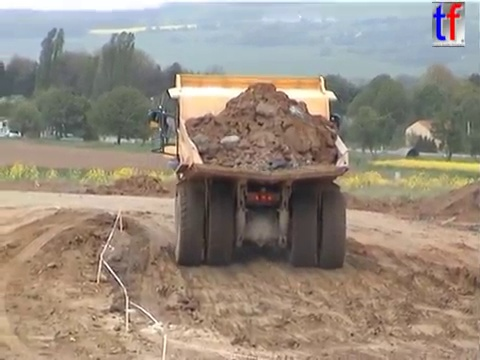truck: (144, 71, 353, 270)
